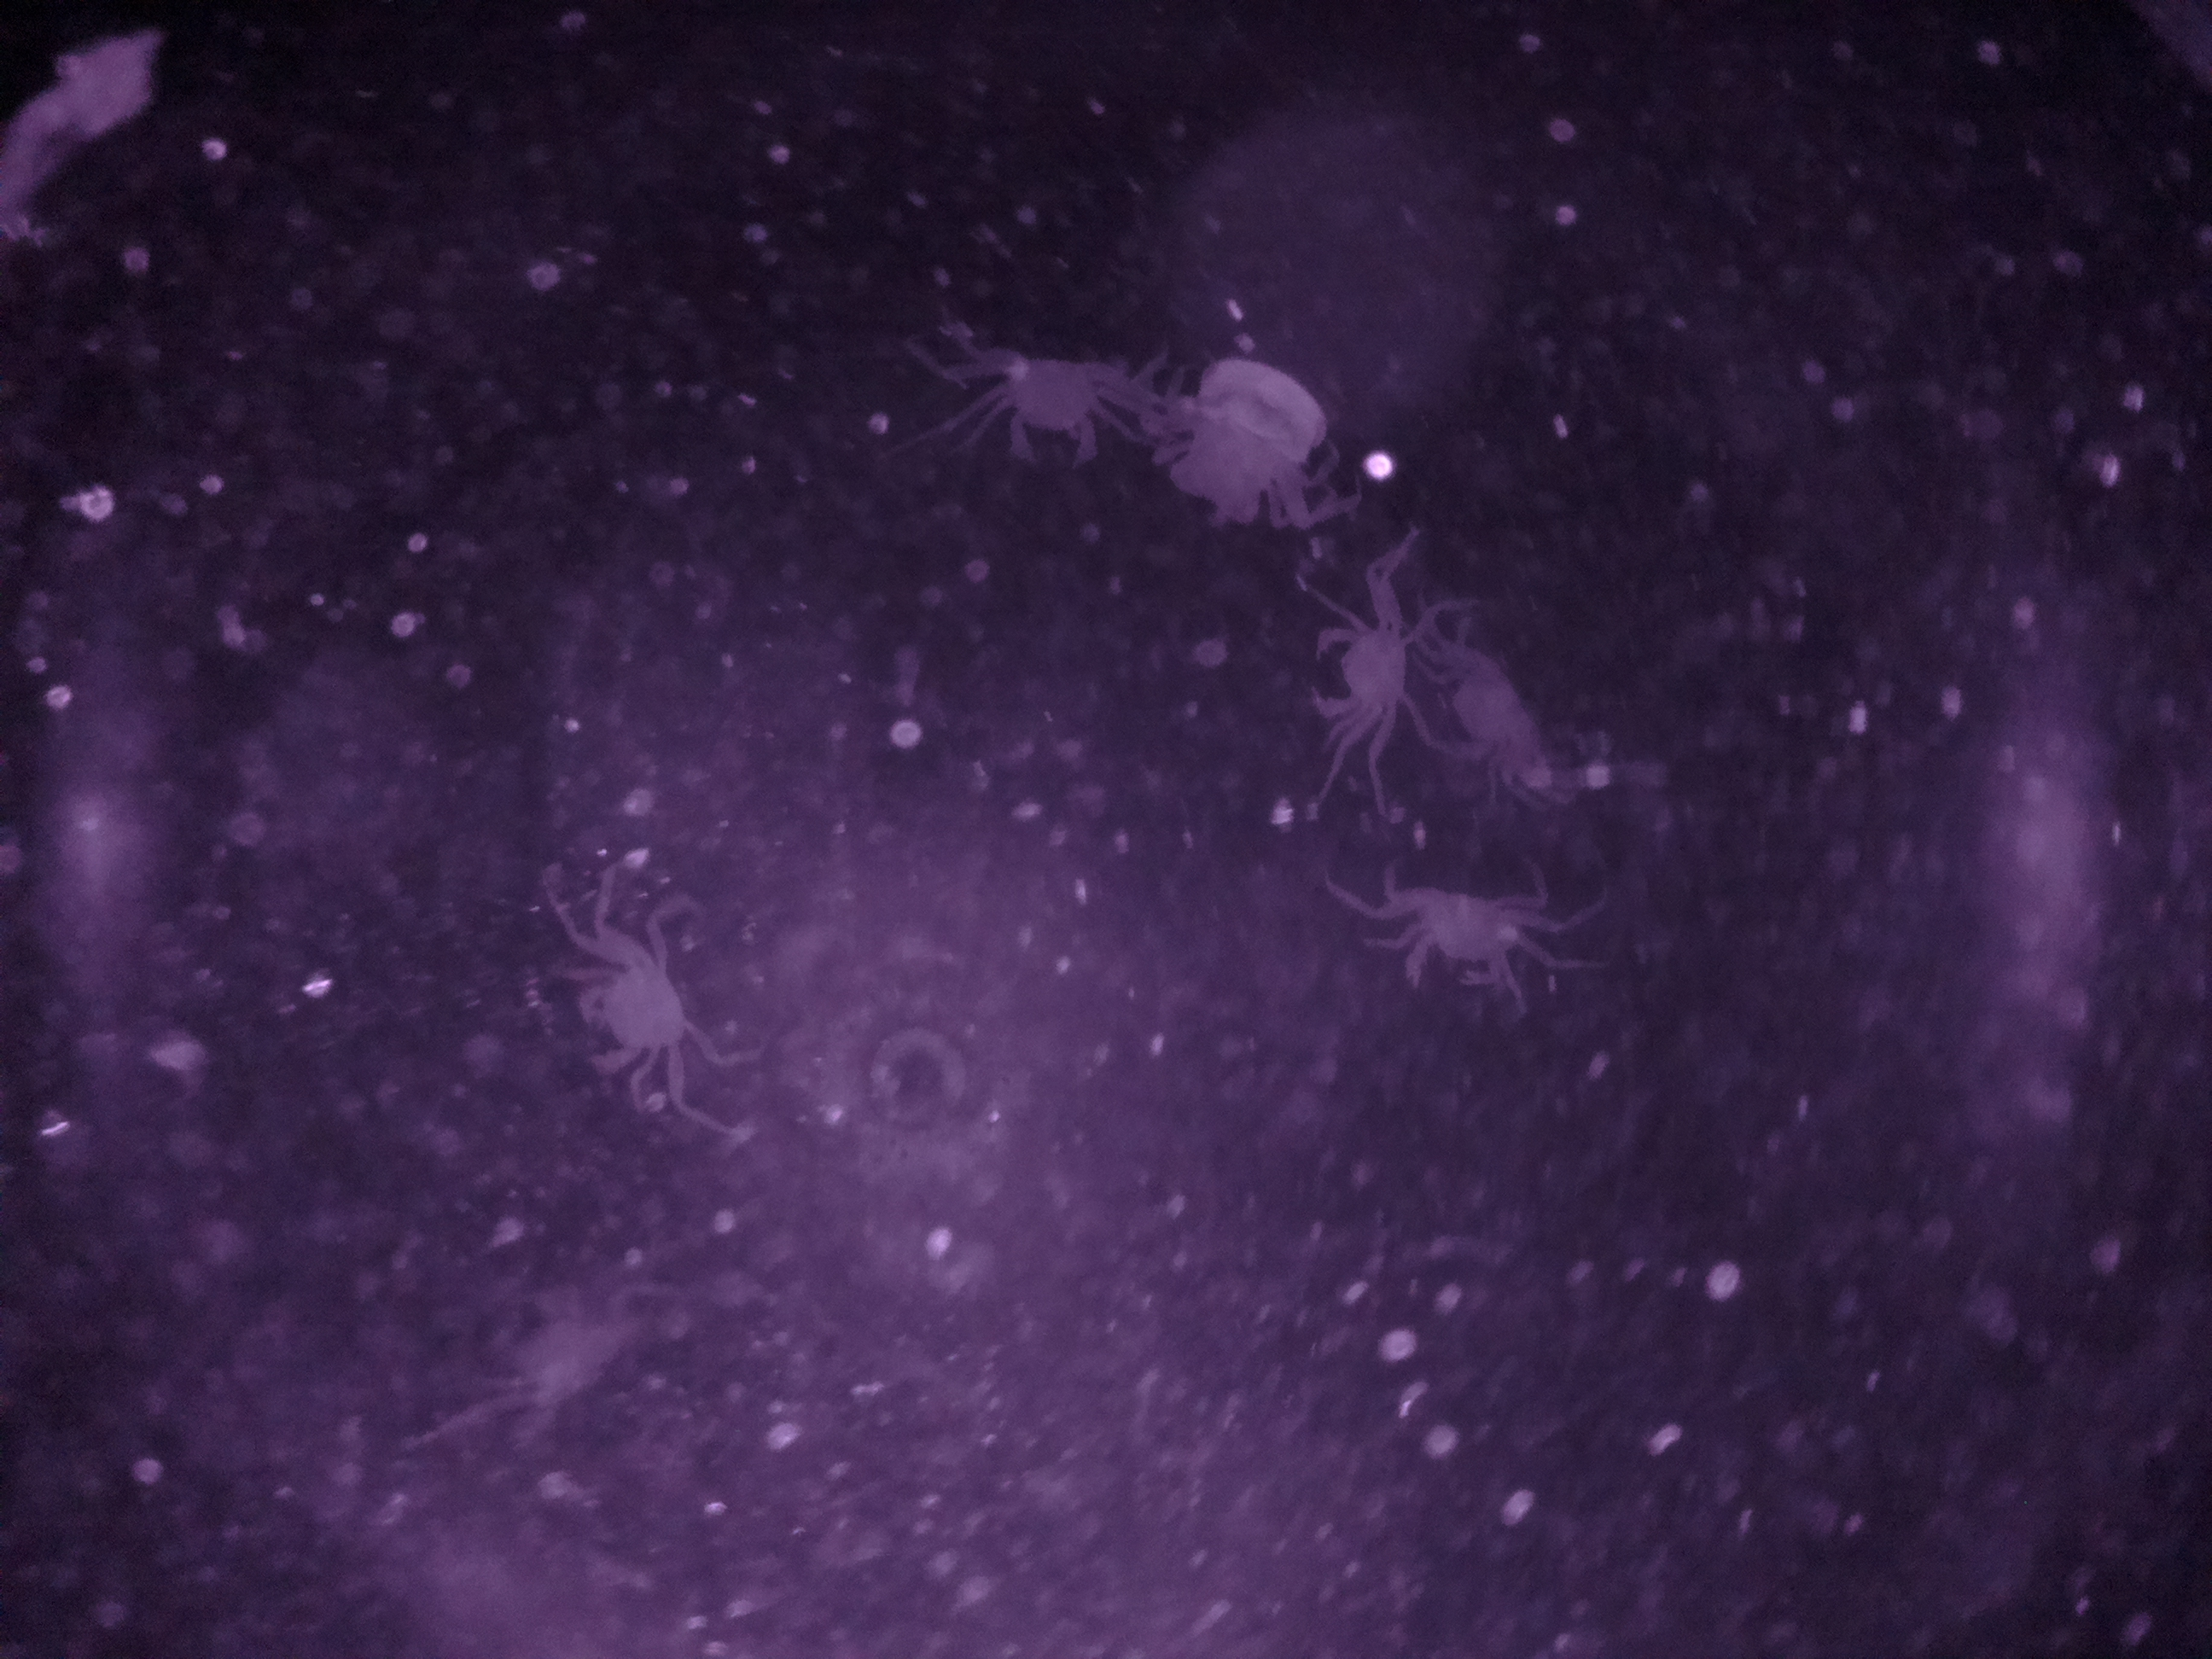Crab: (552, 863, 723, 1121), (1346, 850, 1575, 1019), (1292, 538, 1442, 791), (932, 331, 1165, 477)
